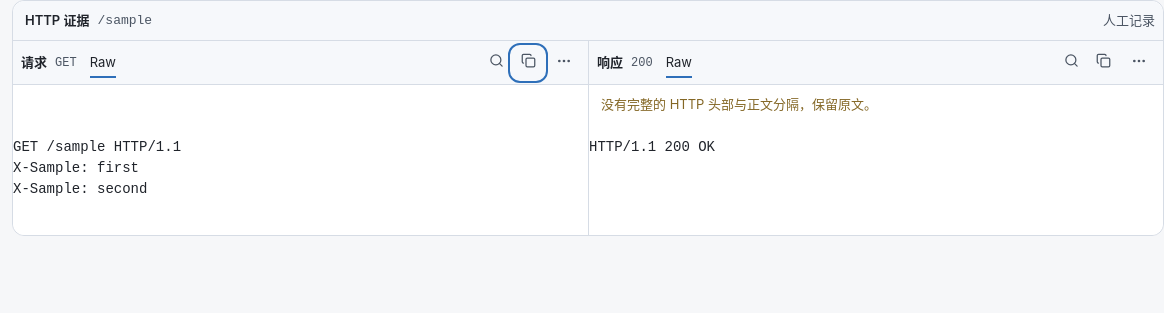
Test case: 复测收尾交互边界 › 复制API缺失使用用户触发命令，检查返回值并恢复焦点且不遗留节点
Click the button named "请求复制原文": (528, 62) left=512, top=46, right=544, bottom=78
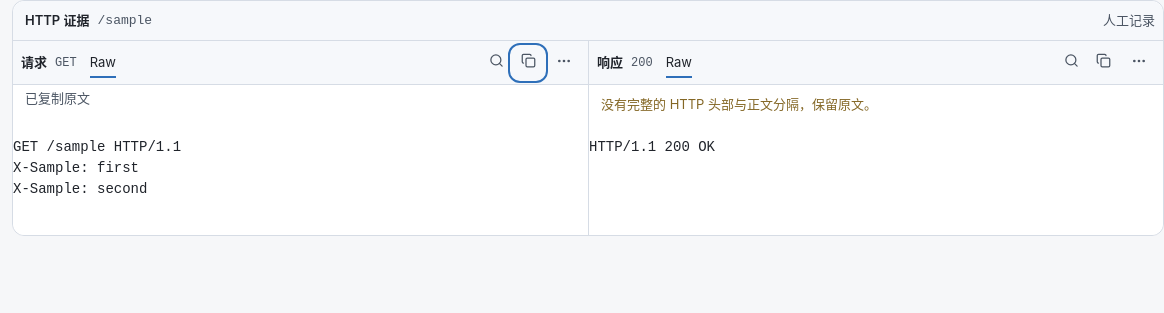
Result: the message "已复制原文" is shown at left=25, top=89, right=90, bottom=108
Click the button named "响应复制原文": (1103, 62) left=1087, top=46, right=1119, bottom=78
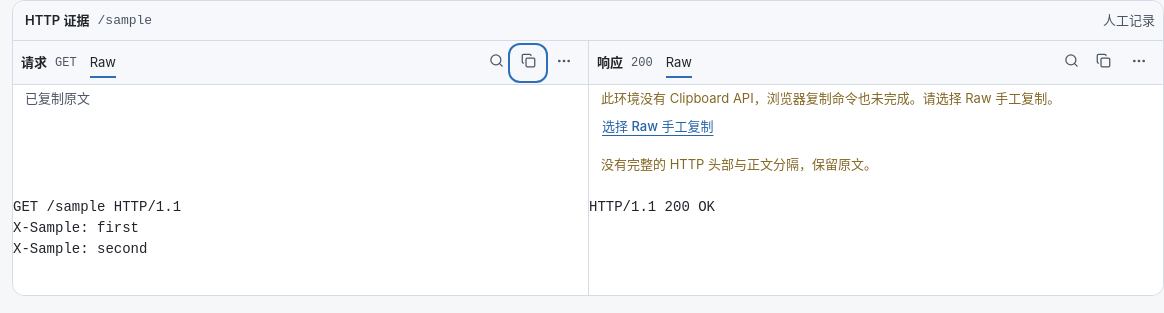
Result: the message "此环境没有 Clipboard API，浏览器复制命令也未完成。请选择 Raw 手工复制。" is shown at left=601, top=89, right=1060, bottom=108
Click the button named "请求复制原文": (528, 62) left=512, top=46, right=544, bottom=78
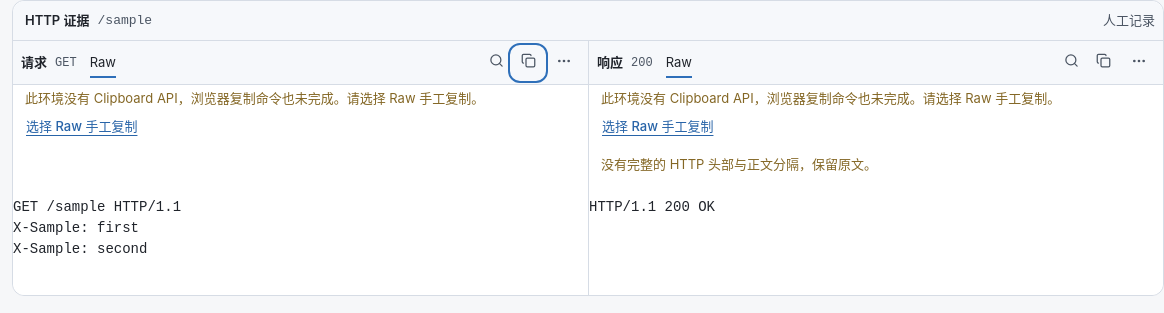
Result: the message "此环境没有 Clipboard API，浏览器复制命令也未完成。请选择 Raw 手工复制。" below "请求" is shown at left=25, top=90, right=484, bottom=106
